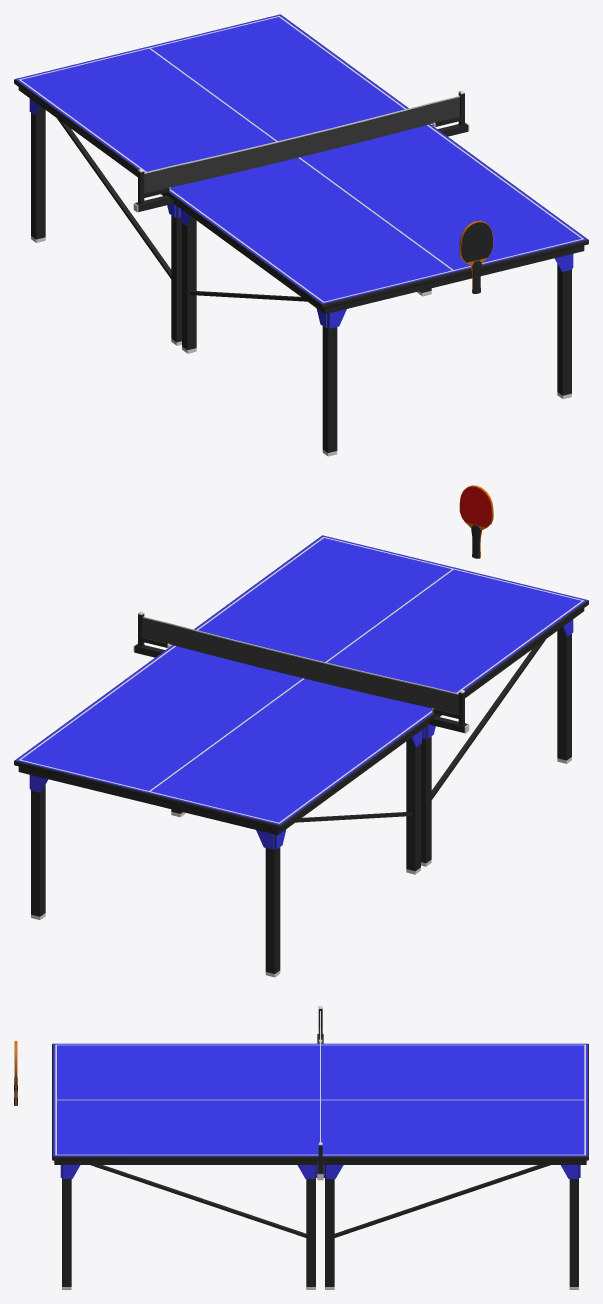
File: PingPong.fbx
The picture shows the model from 3 angles, top to bottom: view 1: azimuth 30°, elevation 25°; view 2: azimuth 150°, elevation 25°; view 3: azimuth 270°, elevation 25°; orthographic projection. The views are drawn at different scales.
Visible parts, largest first — view 1: Table, Grid, Racket; view 2: Table, Grid, Racket; view 3: Table.
Part boxes in pixels (<box>): Table: <box>14,14,588,456</box>; Grid: <box>144,95,459,193</box>; Racket: <box>459,220,493,293</box>; Table: <box>14,535,588,977</box>; Grid: <box>143,616,458,713</box>; Racket: <box>459,485,493,558</box>; Table: <box>52,1006,588,1289</box>.
Bounding box in the file's own units: 12.43 × 8.04 × 21.42.
